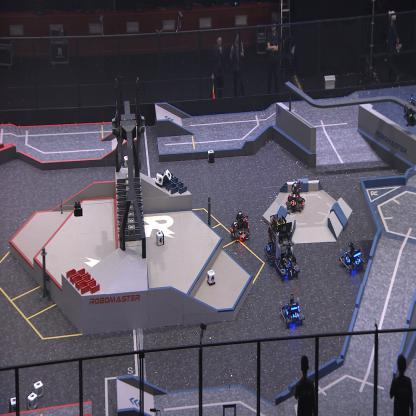car: (274, 221, 300, 279), (264, 211, 286, 266), (339, 240, 365, 273), (280, 293, 304, 328), (286, 180, 306, 212), (229, 210, 250, 240)
